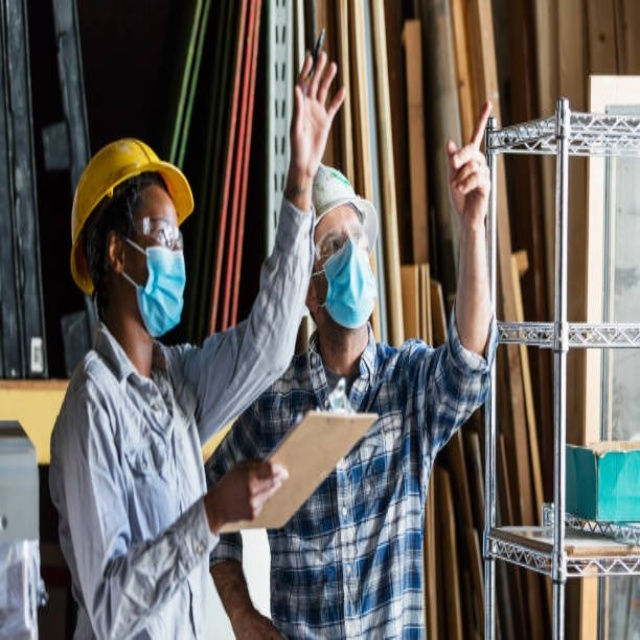Gafas: (311, 225, 367, 272), (122, 214, 185, 250)
Mascara: (123, 234, 187, 337), (316, 235, 378, 328)
Sin_guantes: (288, 40, 347, 175), (445, 99, 495, 224), (212, 458, 290, 531)
